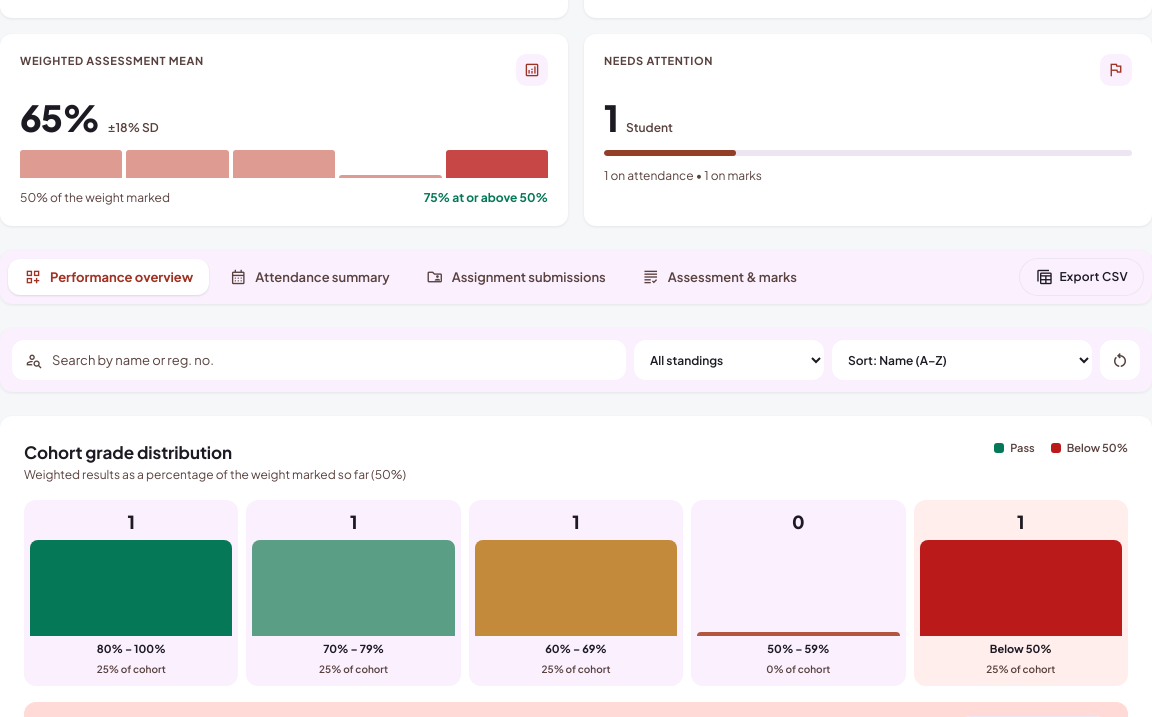
Test case: filters by search and standing, sorts, and clears
The width and height of the screenshot is (1152, 717).
(page scrolled)
Type "reg-0914" into the search field named "Search students" at point(332, 360), box [50,351,614,369]
Click the button named "Clear filters" at point(1120, 360), box [1100,340,1140,380]
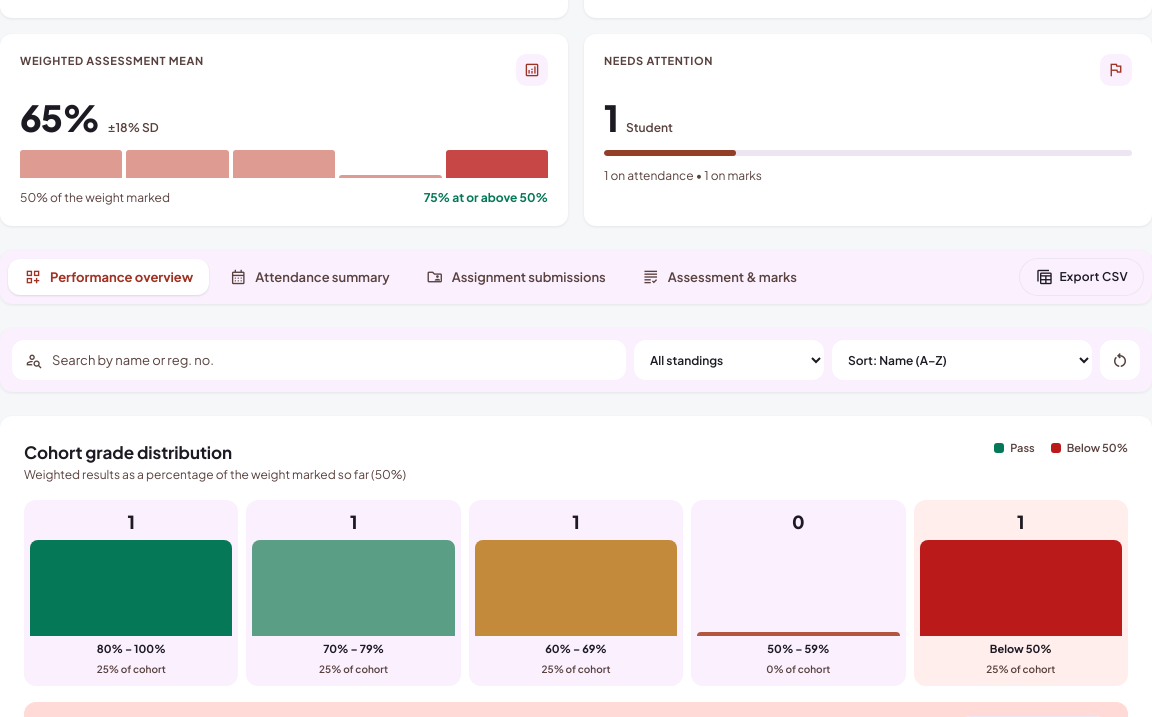
Select "Needs attention (1)" in the dropdown named "Standing" at point(729, 360), box [634,340,824,380]
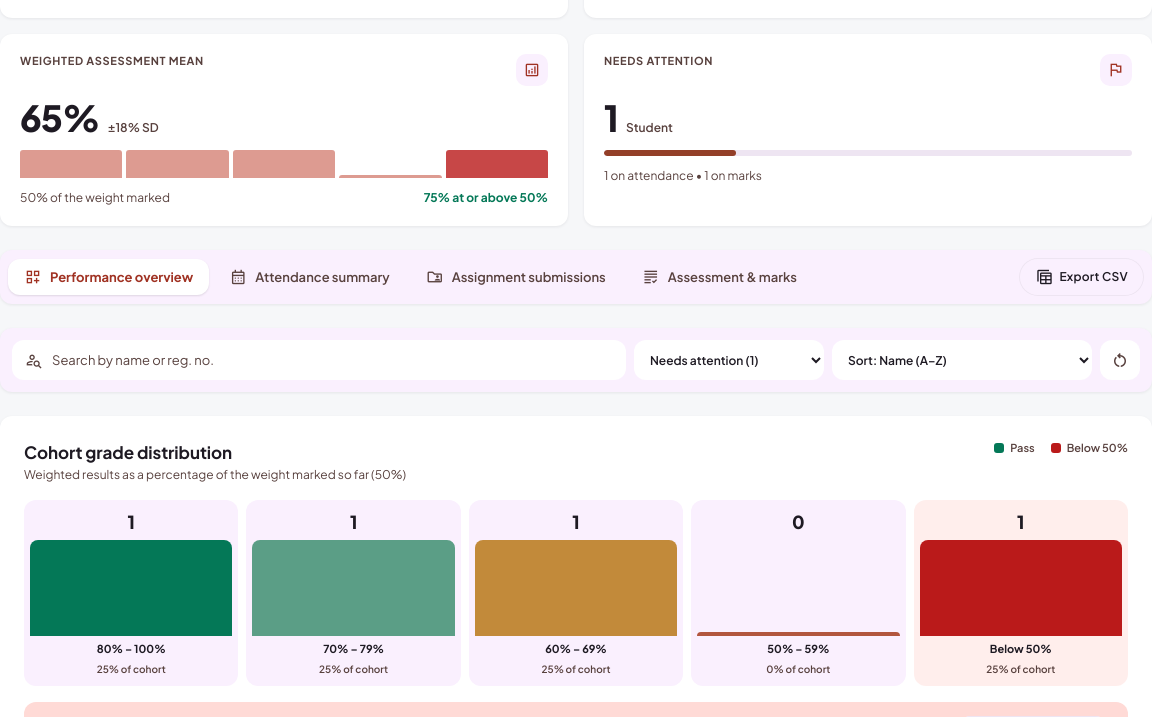
Select "All standings" in the dropdown named "Standing" at point(729, 360), box [634,340,824,380]
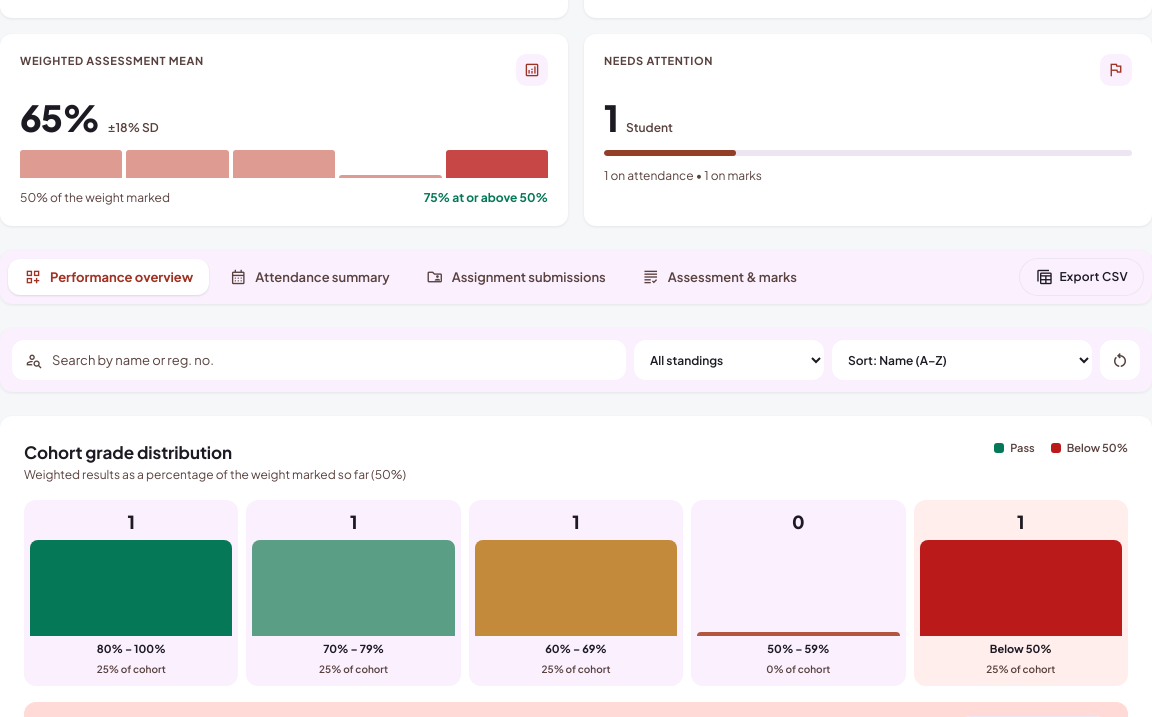
Select "Sort: Weighted result (high to low)" in the dropdown named "Sort students" at point(962, 360), box [832,340,1092,380]
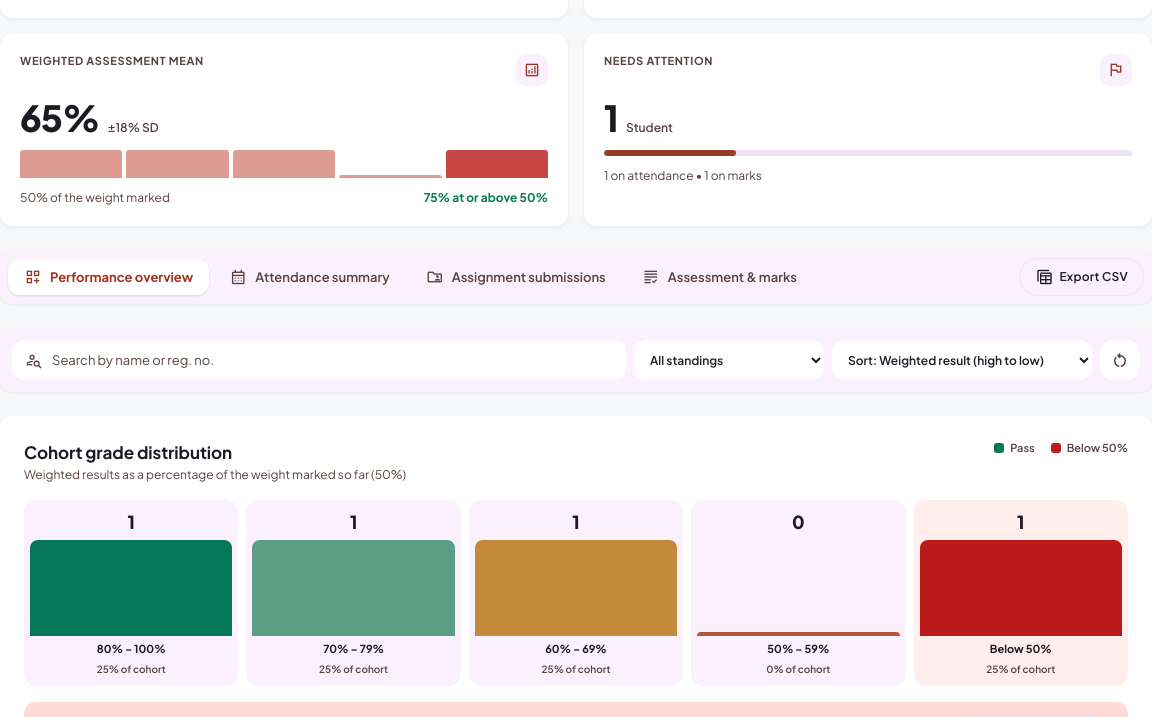
Select "Sort: Attendance (lowest first)" in the dropdown named "Sort students" at point(962, 360), box [832,340,1092,380]
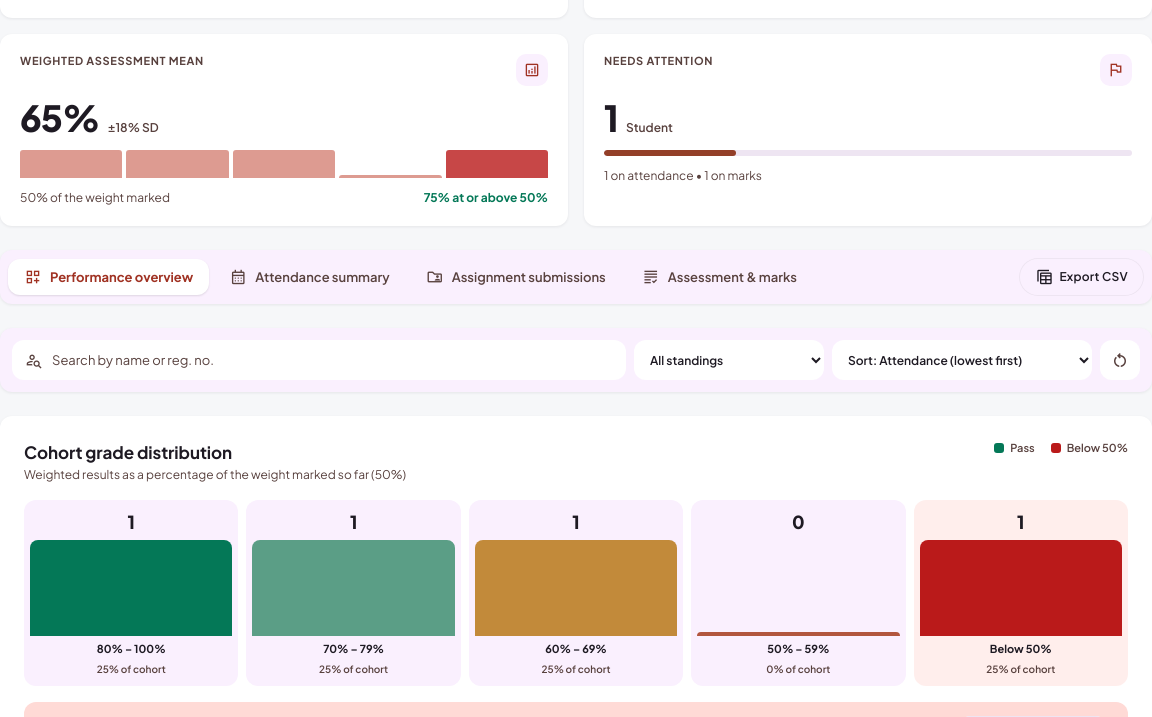
Type "nobody" into the search field named "Search students" at point(332, 360), box [50,351,614,369]
(page scrolled)
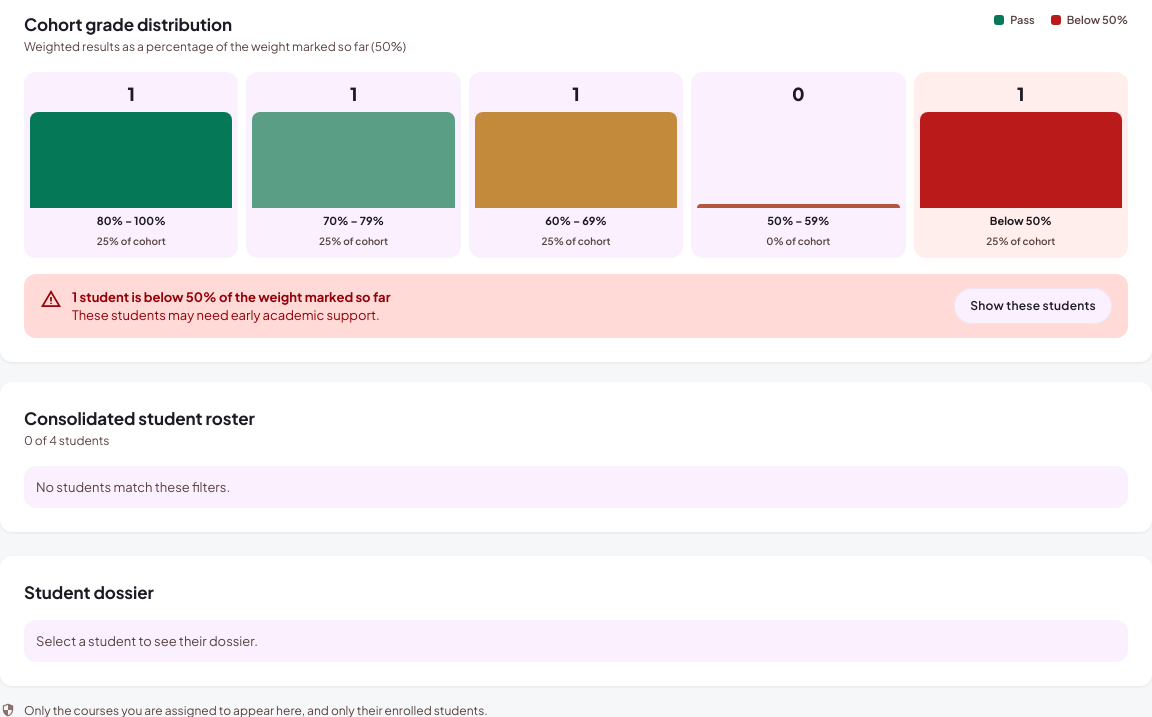
Check: the text "No students match these filters." is shown, box [24,466,1128,508]
